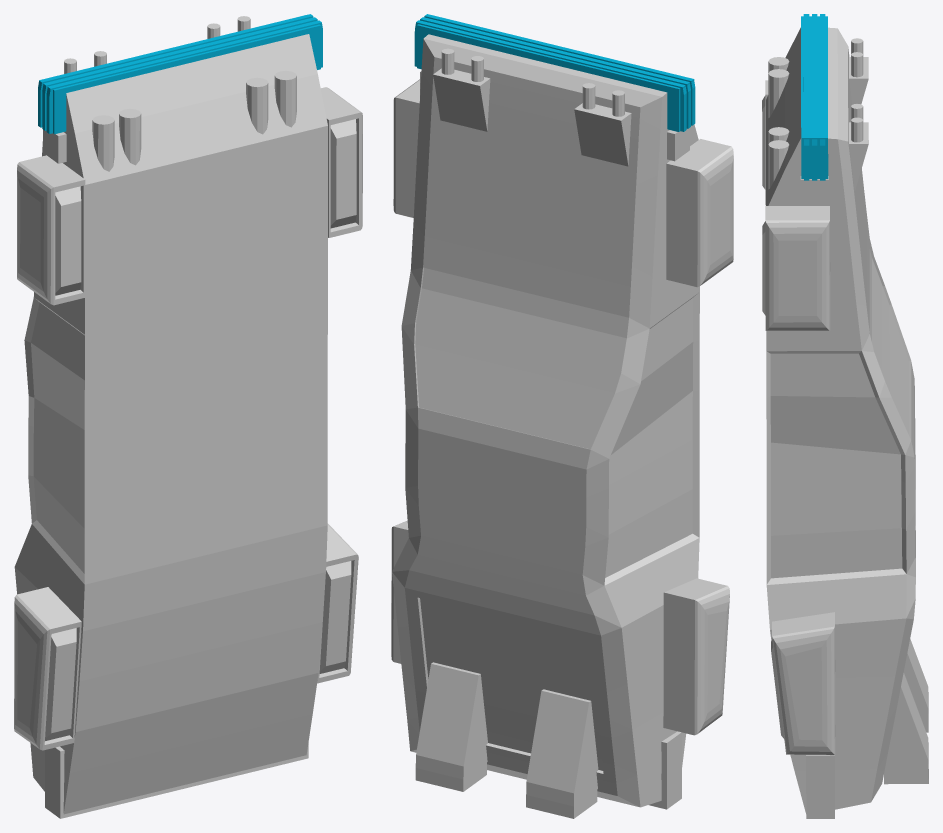
File: NaveJogador.fbx
3 views of the same model, side by side, from view 1: azimuth 30°, elevation 25°; view 2: azimuth 150°, elevation 25°; view 3: azimuth 270°, elevation 25° (orthographic). The views are drawn at different scales.
Parts seen in each view (by area): view 1: Cube, Cube.002, Cube.001, Cube.007, Cube.004, Cube.003, Cylinder.008, Cylinder.007, Cylinder.006, Cylinder.005, Cube.008; view 2: Cube, Cube.002, Cube.001, Cube.005, Cube.006, Cube.007, Cube.004, Cube.011, Cube.010, Cube.003, Cube.008; view 3: Cube, Cube.004, Cube.003, Cube.007, Cube.005, Cube.006, Cube.009, Cube.010, Cylinder.005, Cylinder.008, Cube.011, Cube.001.
Boxes of the visible parts, box(x1,y1,x2,y2) form: Cube: box(14, 34, 327, 818); Cube.002: box(14, 587, 81, 750); Cube.001: box(17, 155, 85, 305); Cube.007: box(38, 14, 322, 134); Cube.004: box(320, 87, 362, 237); Cube.003: box(317, 523, 358, 683); Cylinder.008: box(119, 108, 141, 165); Cylinder.007: box(246, 77, 268, 134); Cylinder.006: box(92, 115, 114, 171); Cylinder.005: box(274, 70, 296, 127); Cube.008: box(43, 130, 66, 163); Cube: box(392, 34, 699, 809); Cube.002: box(663, 578, 729, 735); Cube.001: box(666, 139, 733, 287); Cube.005: box(415, 662, 487, 791); Cube.006: box(526, 689, 598, 818); Cube.007: box(414, 14, 695, 131); Cube.004: box(393, 79, 419, 217); Cube.011: box(574, 103, 631, 166); Cube.010: box(433, 68, 490, 131); Cube.003: box(391, 520, 408, 663); Cube.008: box(667, 128, 689, 161); Cube: box(766, 27, 915, 818); Cube.004: box(762, 206, 830, 330); Cube.003: box(771, 612, 835, 755); Cube.007: box(801, 14, 828, 180); Cube.005: box(884, 673, 928, 784); Cube.006: box(903, 639, 928, 732); Cube.009: box(800, 176, 828, 205); Cube.010: box(849, 122, 868, 191); Cylinder.005: box(768, 140, 789, 189); Cylinder.008: box(768, 69, 789, 117); Cube.011: box(849, 57, 868, 104); Cube.001: box(762, 80, 768, 205).
Bounding box in the file's own units: 398 × 875 × 192.
